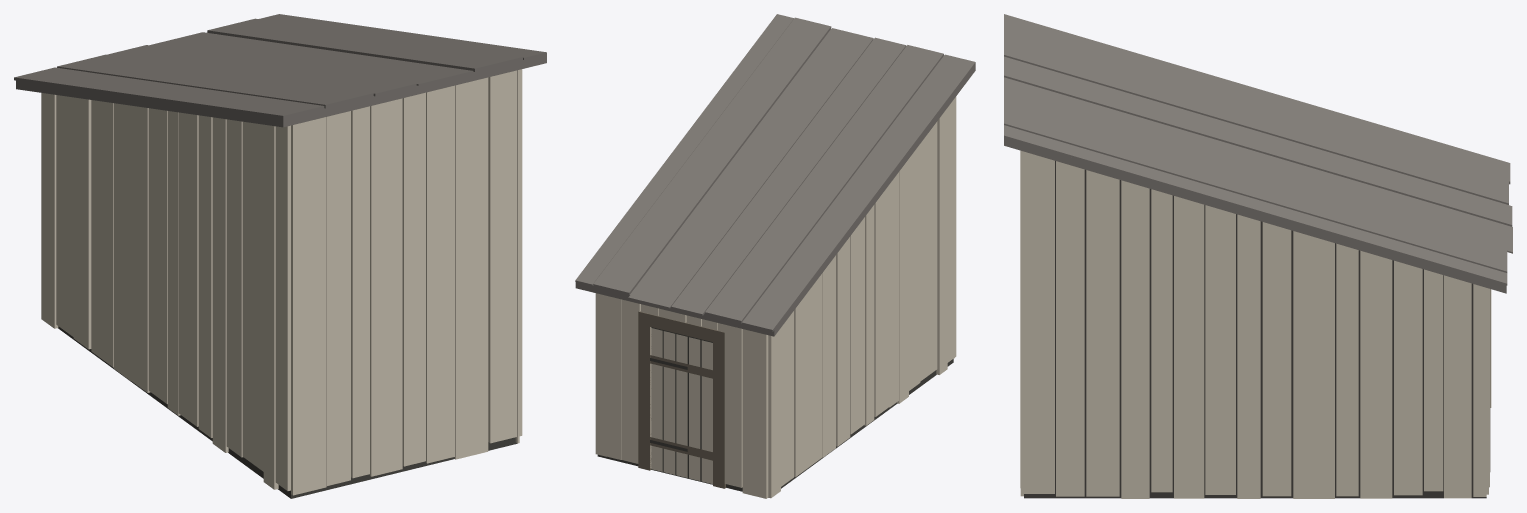
The model's file is recon_1835_blk_washington_clinton_a5_13__inferred_1835.glb.
The picture shows the model from 3 angles, left to right: view 1: azimuth 30°, elevation 25°; view 2: azimuth 150°, elevation 25°; view 3: azimuth 270°, elevation 25°; orthographic projection. The views are drawn at different scales.
Parts seen in each view (by area): view 1: recon_1835_blk_washington_clinton_a5_13__inferred_1835; view 2: recon_1835_blk_washington_clinton_a5_13__inferred_1835; view 3: recon_1835_blk_washington_clinton_a5_13__inferred_1835.
Boxes of the visible parts, x1,y1,x2,y2 form: recon_1835_blk_washington_clinton_a5_13__inferred_1835: (14,14,546,498); recon_1835_blk_washington_clinton_a5_13__inferred_1835: (575,14,975,498); recon_1835_blk_washington_clinton_a5_13__inferred_1835: (1004,14,1512,498).
Bounding box in the file's own units: 2.71 × 3.9 × 4.83.
